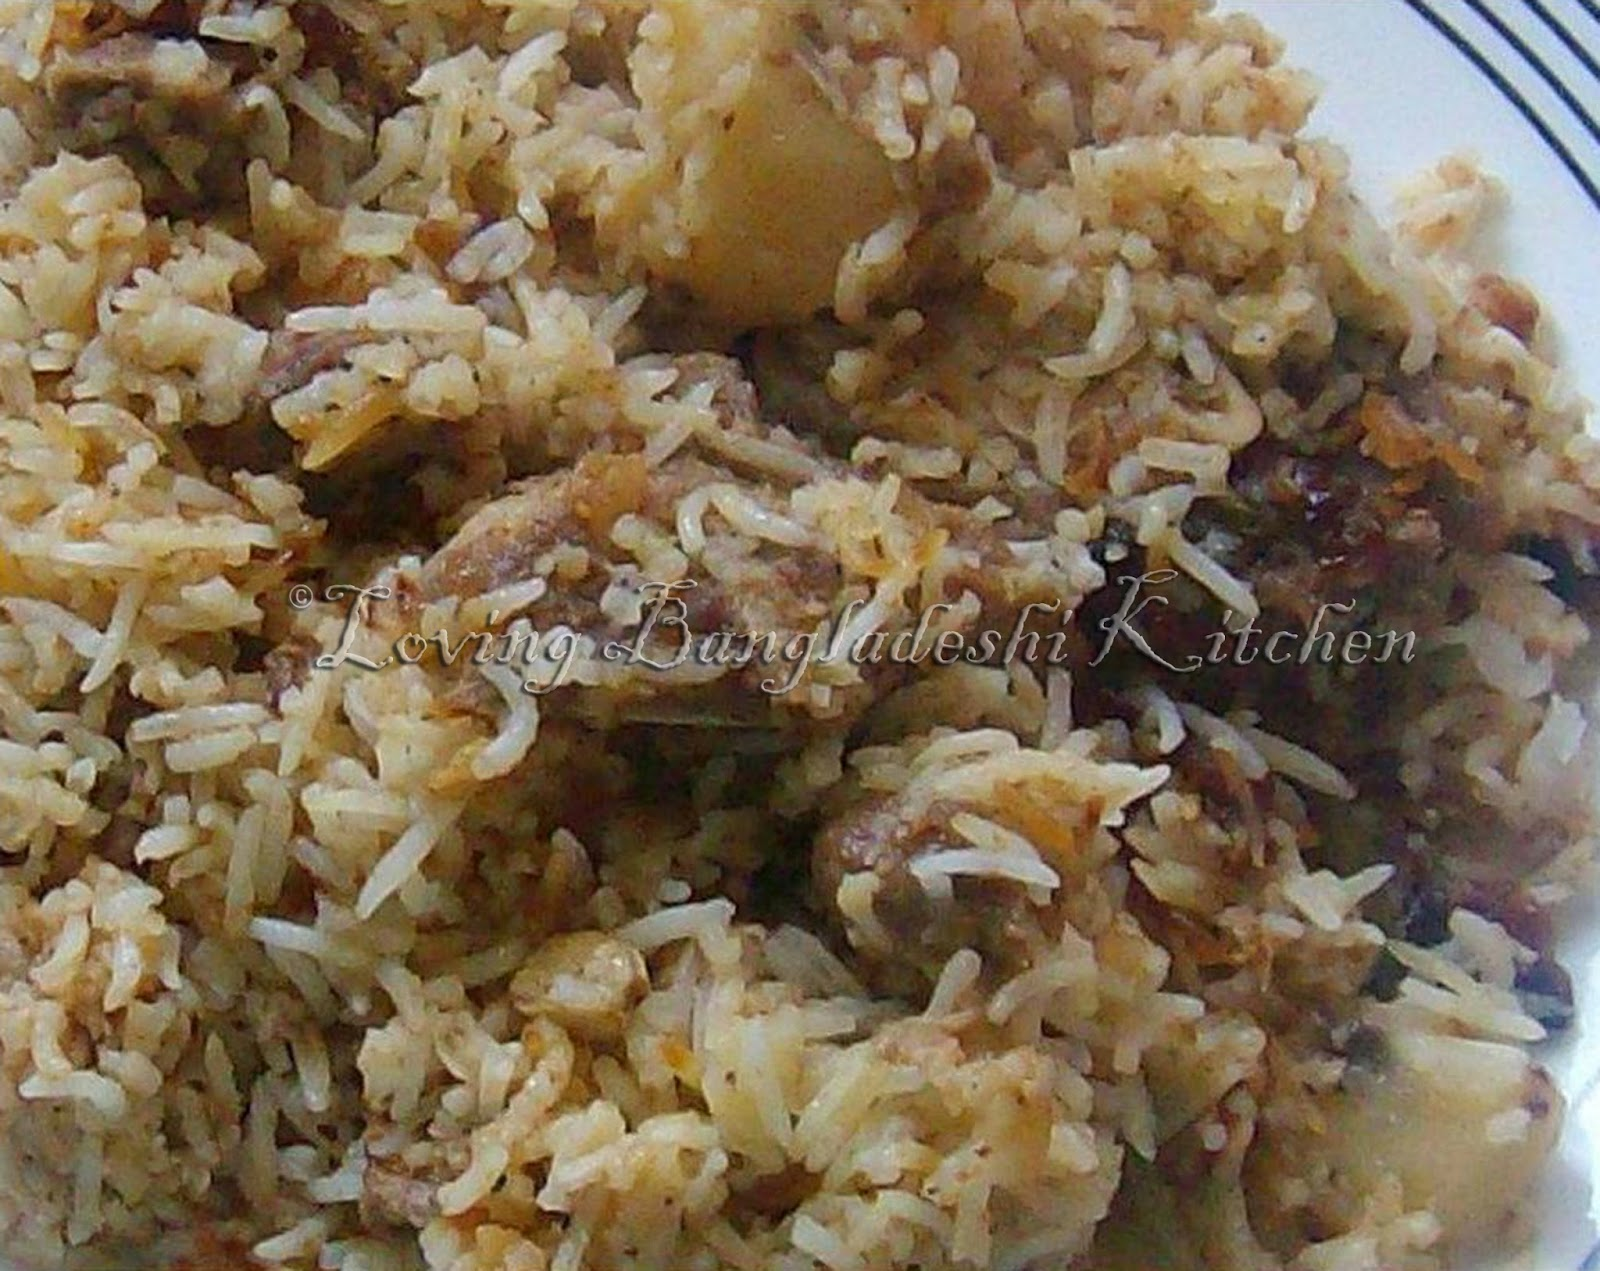rice: (29, 16, 1564, 1231)
